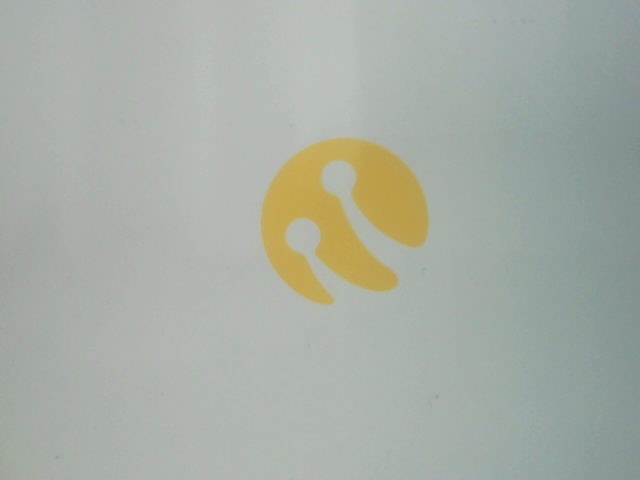AV_H3600Yellow: (252, 136, 435, 305)
